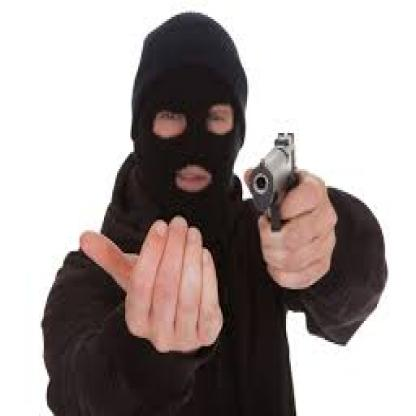billete: (250, 128, 299, 236)
